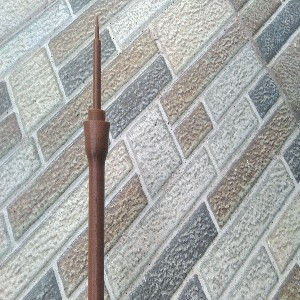solder: (82, 14, 111, 300)
